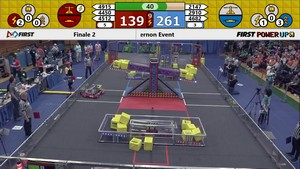cube: (128, 138, 145, 150), (144, 136, 154, 152), (116, 124, 129, 136), (181, 129, 194, 141), (109, 118, 120, 130), (192, 128, 202, 140), (180, 117, 190, 127), (120, 115, 130, 124), (119, 60, 129, 69), (112, 61, 120, 68), (180, 68, 187, 76), (190, 67, 198, 74), (172, 61, 178, 69), (185, 74, 191, 79)
